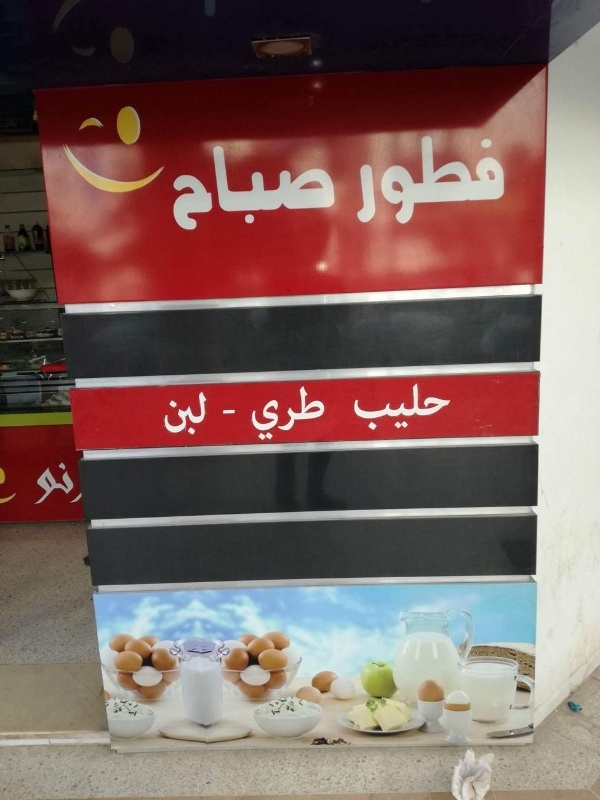text: (369, 132, 384, 231), (385, 132, 400, 231), (401, 132, 416, 231), (417, 132, 432, 231), (433, 132, 448, 231), (449, 132, 464, 231), (465, 132, 480, 231), (481, 132, 496, 231), (354, 132, 368, 231), (177, 141, 192, 231), (193, 141, 208, 231), (209, 141, 224, 231), (225, 141, 240, 231), (241, 141, 256, 231), (257, 141, 272, 231), (273, 141, 288, 231), (289, 141, 304, 231), (305, 141, 320, 231), (321, 141, 336, 231), (497, 132, 506, 231), (257, 384, 272, 441), (273, 384, 288, 441), (289, 384, 304, 441), (305, 384, 320, 441), (353, 382, 368, 433), (369, 382, 384, 433), (385, 382, 400, 433), (401, 382, 416, 433), (417, 382, 432, 433), (433, 382, 448, 433), (49, 460, 64, 507), (161, 390, 176, 436), (177, 390, 192, 436), (193, 390, 208, 436), (35, 460, 48, 507), (247, 384, 256, 441), (65, 460, 75, 507), (321, 384, 329, 441), (172, 141, 176, 231), (449, 382, 452, 433), (209, 390, 211, 436), (337, 141, 338, 231), (225, 409, 237, 415), (351, 382, 352, 433), (221, 409, 224, 415)
